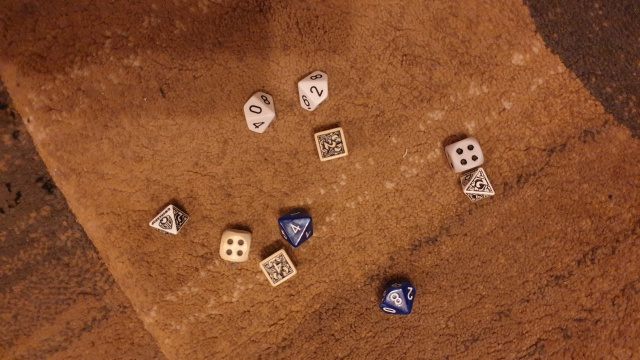d10-10: (234, 87, 279, 136)
d10-2: (295, 66, 334, 115)
d10-4: (275, 203, 318, 249)
d10-8: (375, 275, 420, 320)
d6-4: (444, 136, 484, 172), (218, 225, 250, 262)
d6p-2: (311, 128, 349, 161)
d6p-4: (258, 246, 299, 285)
d8p-2: (458, 168, 498, 207)
d8p-8: (145, 202, 188, 239)
